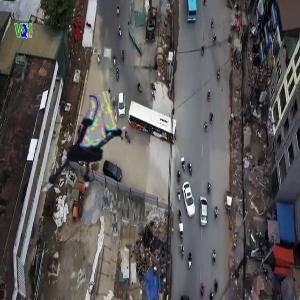drone: (28, 101, 133, 206)
